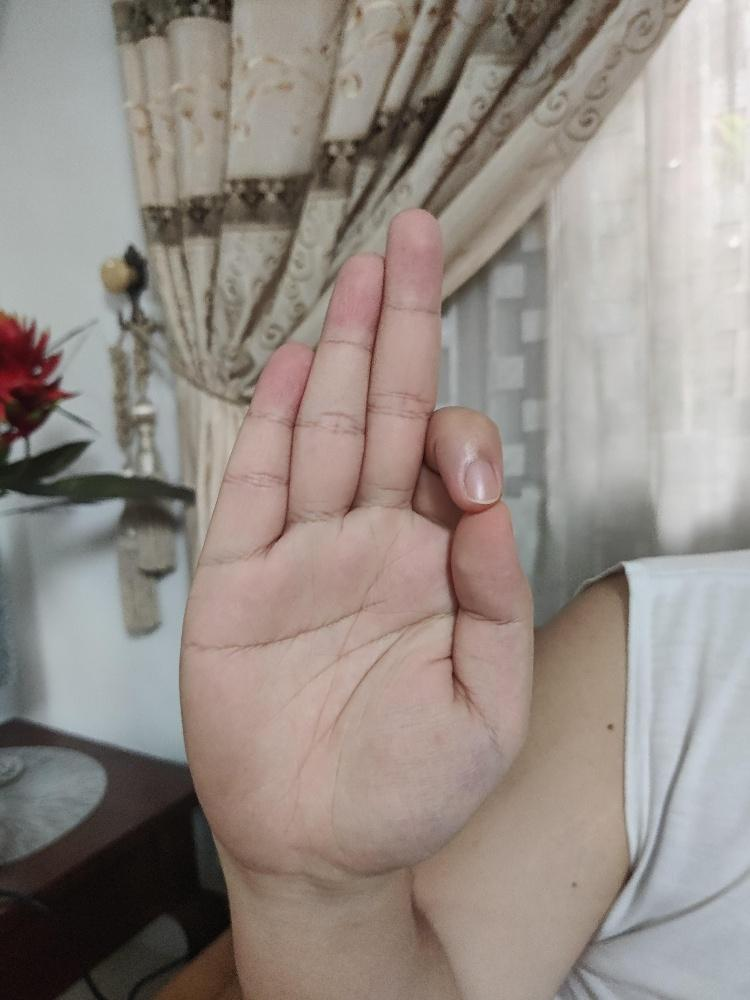f: (175, 205, 538, 879)
